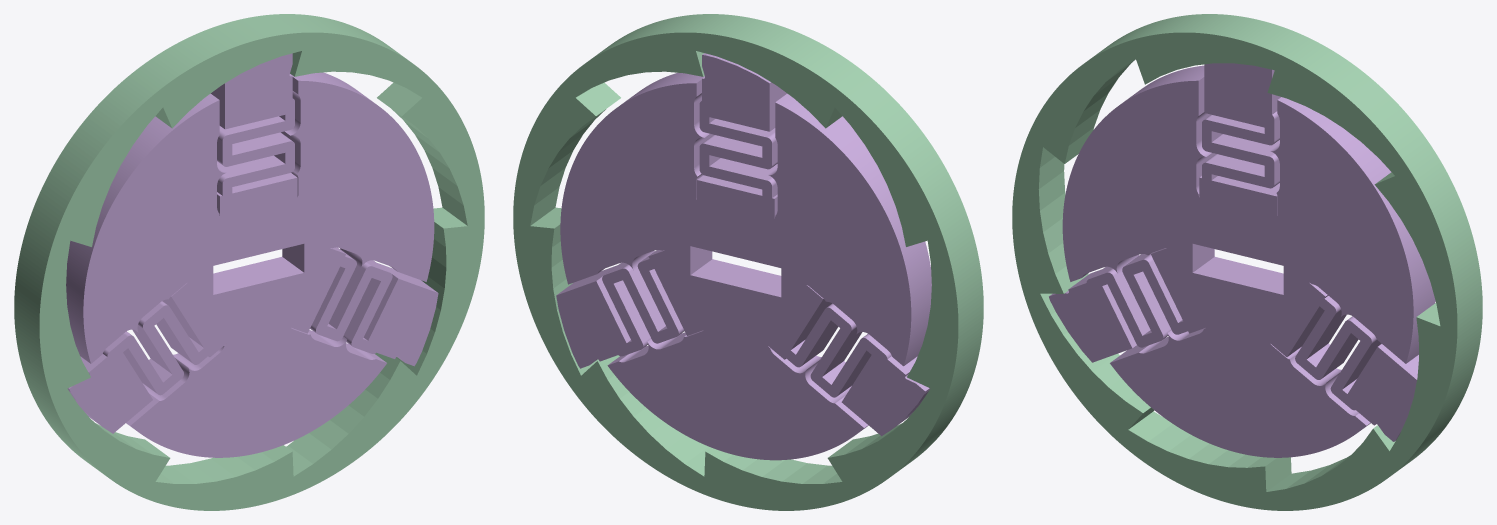
Rendered from pip_ratchet_demo.glb.
3 views of the same model, side by side, from view 1: azimuth 30°, elevation 25°; view 2: azimuth 150°, elevation 25°; view 3: azimuth 330°, elevation 25° (orthographic).
Visible parts, largest first — view 1: accordion_hub, undercut_ring; view 2: accordion_hub, undercut_ring; view 3: accordion_hub, undercut_ring.
Boxes of the visible parts, x1=… form: accordion_hub: x1=66, y1=53, x2=438, y2=457; undercut_ring: x1=14, y1=14, x2=484, y2=510; accordion_hub: x1=556, y1=53, x2=931, y2=460; undercut_ring: x1=513, y1=14, x2=983, y2=510; accordion_hub: x1=1049, y1=63, x2=1435, y2=457; undercut_ring: x1=1012, y1=14, x2=1482, y2=510.
Size of the model in its own units: 36.8 by 36.8 by 3.62.
